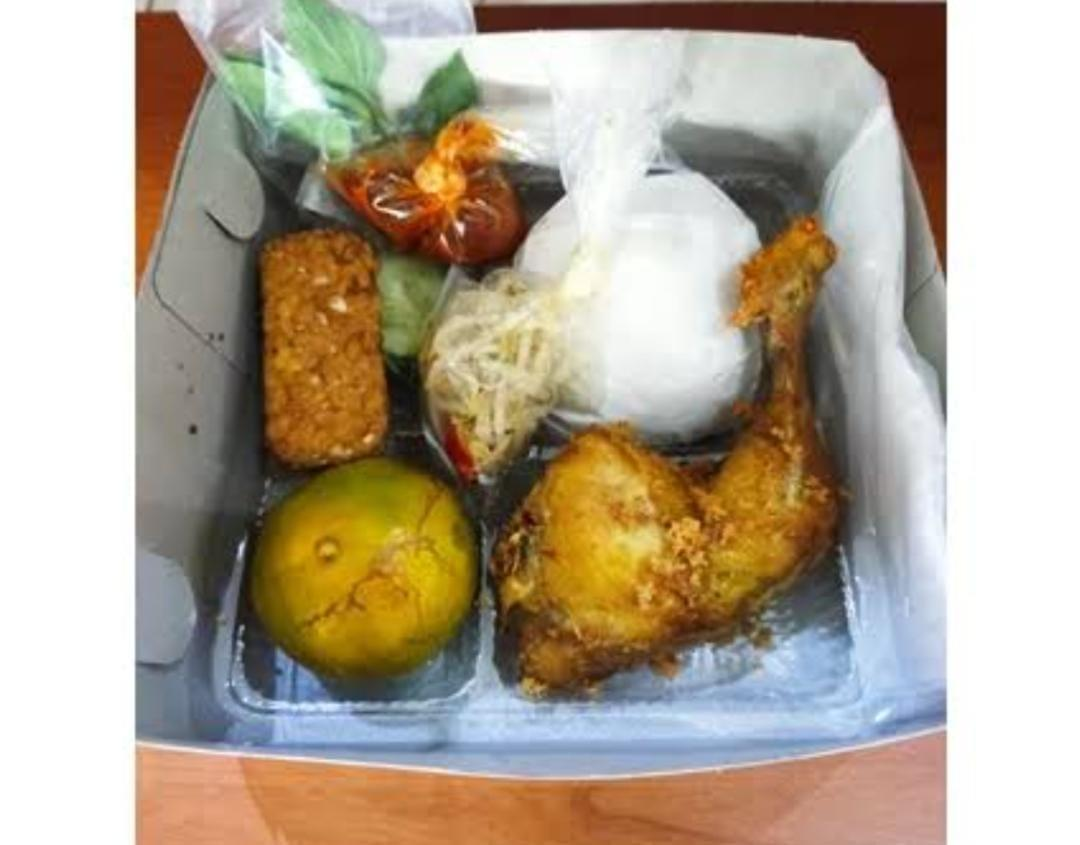daging: (542, 485, 696, 641)
kacang_legume: (265, 245, 372, 444)
